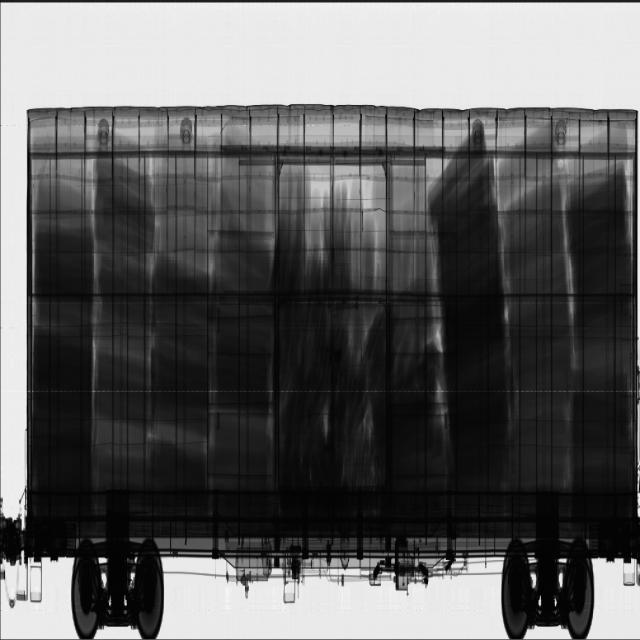textile: (3, 125, 589, 476)
